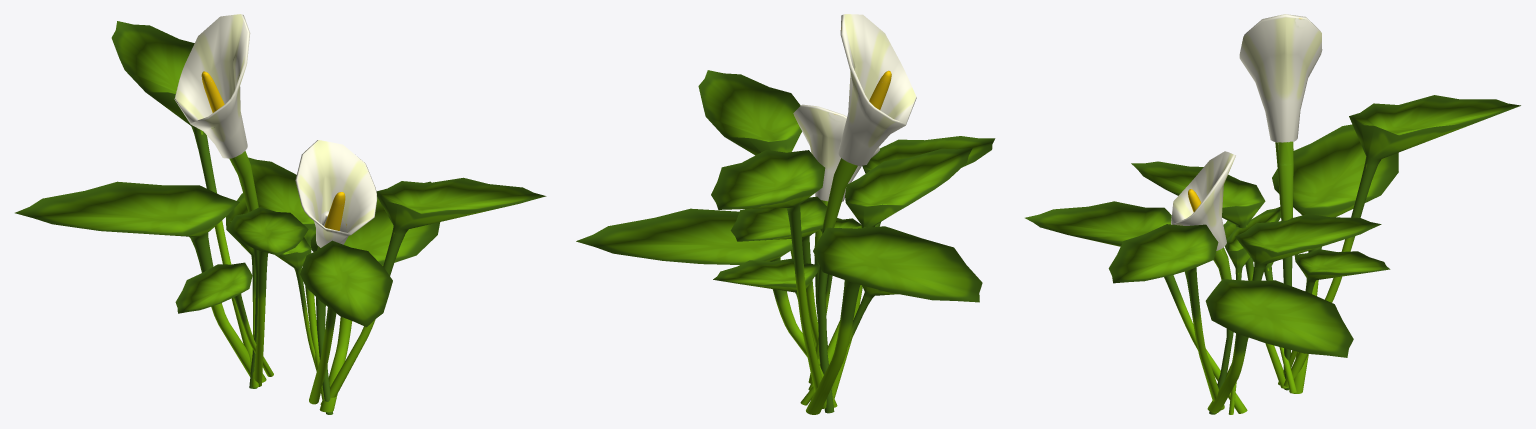
Rendered from bunga lili 1.fbx.
3 views of the same model, side by side, from view 1: azimuth 30°, elevation 25°; view 2: azimuth 150°, elevation 25°; view 3: azimuth 270°, elevation 25° (orthographic). The views are drawn at different scales.
Visible parts, largest first — view 1: Cylinder.006, Cylinder.005, Cylinder, Cylinder.004, Cylinder.010, Cylinder.007, Cylinder.008, Cylinder.003, Cylinder.002, Cylinder.011, Cylinder.001, Cylinder.009; view 2: Cylinder.006, Cylinder.005, Cylinder.003, Cylinder.007, Cylinder.004, Cylinder.008, Cylinder.002, Cylinder, Cylinder.010, Cylinder.009, Cylinder.011, Cylinder.001; view 3: Cylinder.003, Cylinder.005, Cylinder.007, Cylinder.006, Cylinder.004, Cylinder.010, Cylinder.002, Cylinder, Cylinder.008, Cylinder.009, Cylinder.001, Cylinder.011.
Boxes of the visible parts, bbox=[...] form: Cylinder.006: bbox=[15, 181, 266, 382]; Cylinder.005: bbox=[174, 14, 258, 388]; Cylinder: bbox=[295, 140, 377, 414]; Cylinder.004: bbox=[320, 177, 546, 404]; Cylinder.010: bbox=[300, 240, 392, 404]; Cylinder.007: bbox=[111, 21, 263, 380]; Cylinder.008: bbox=[227, 207, 308, 386]; Cylinder.003: bbox=[311, 181, 440, 412]; Cylinder.002: bbox=[238, 157, 327, 412]; Cylinder.011: bbox=[175, 262, 273, 376]; Cylinder.001: bbox=[230, 221, 316, 371]; Cylinder.009: bbox=[226, 193, 258, 387]; Cylinder.006: bbox=[806, 226, 982, 414]; Cylinder.005: bbox=[817, 14, 916, 413]; Cylinder.003: bbox=[576, 208, 819, 364]; Cylinder.007: bbox=[711, 150, 826, 408]; Cylinder.004: bbox=[698, 70, 815, 348]; Cylinder.008: bbox=[831, 147, 972, 398]; Cylinder.002: bbox=[730, 196, 826, 363]; Cylinder: bbox=[793, 104, 879, 347]; Cylinder.010: bbox=[808, 136, 995, 390]; Cylinder.009: bbox=[713, 258, 837, 407]; Cylinder.011: bbox=[800, 285, 898, 405]; Cylinder.001: bbox=[808, 218, 867, 383]; Cylinder.003: bbox=[1205, 279, 1353, 412]; Cylinder.005: bbox=[1239, 14, 1322, 390]; Cylinder.007: bbox=[1283, 95, 1520, 387]; Cylinder.006: bbox=[1272, 124, 1398, 393]; Cylinder.004: bbox=[1108, 224, 1224, 410]; Cylinder.010: bbox=[1025, 201, 1247, 413]; Cylinder.002: bbox=[1211, 214, 1381, 413]; Cylinder: bbox=[1171, 151, 1235, 414]; Cylinder.008: bbox=[1131, 161, 1288, 388]; Cylinder.009: bbox=[1278, 249, 1390, 385]; Cylinder.001: bbox=[1225, 207, 1280, 414]; Cylinder.011: bbox=[1223, 220, 1296, 393].
Size of the model in its own units: 123 by 113 by 136.
